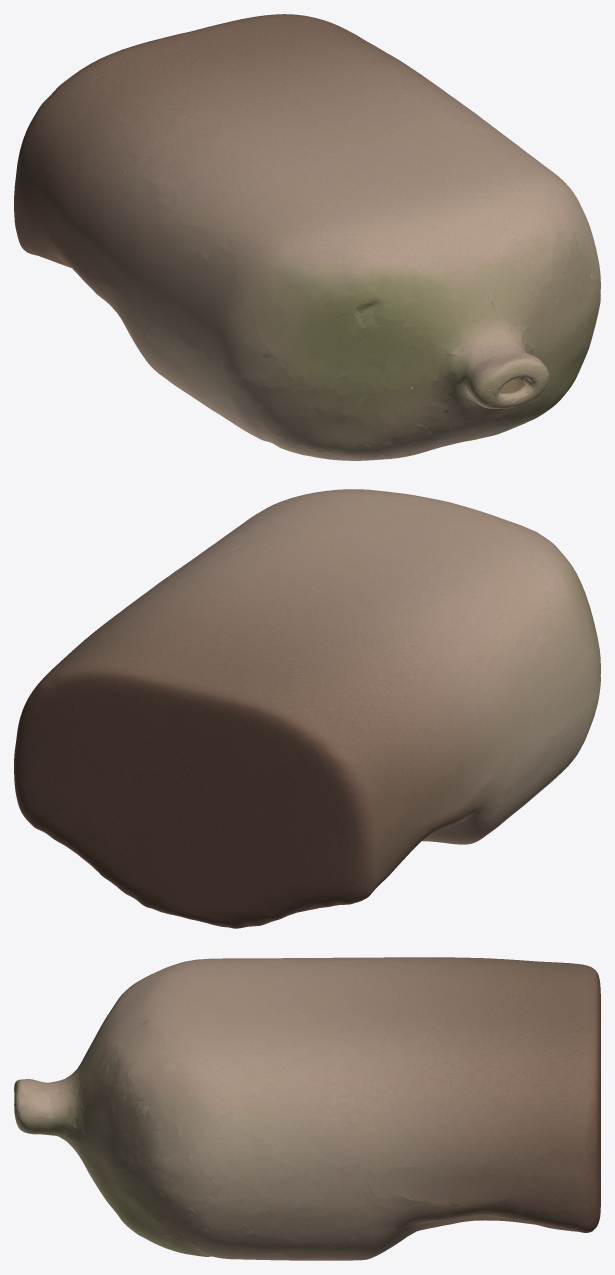
The model's file is sister-9.glb.
The picture shows the model from 3 angles, top to bottom: view 1: azimuth 30°, elevation 25°; view 2: azimuth 150°, elevation 25°; view 3: azimuth 270°, elevation 25°; orthographic projection. The views are drawn at different scales.
Visible parts, largest first — view 1: white ceramic bottle; view 2: white ceramic bottle; view 3: white ceramic bottle.
Part boxes in pixels (x1,y1,x2,y2): white ceramic bottle: [14, 14, 600, 460]; white ceramic bottle: [14, 489, 600, 928]; white ceramic bottle: [14, 957, 600, 1260].
Bounding box in the file's own units: 0.0717 × 0.0462 × 0.1096.
Materials: 1 (1 with a texture image).
